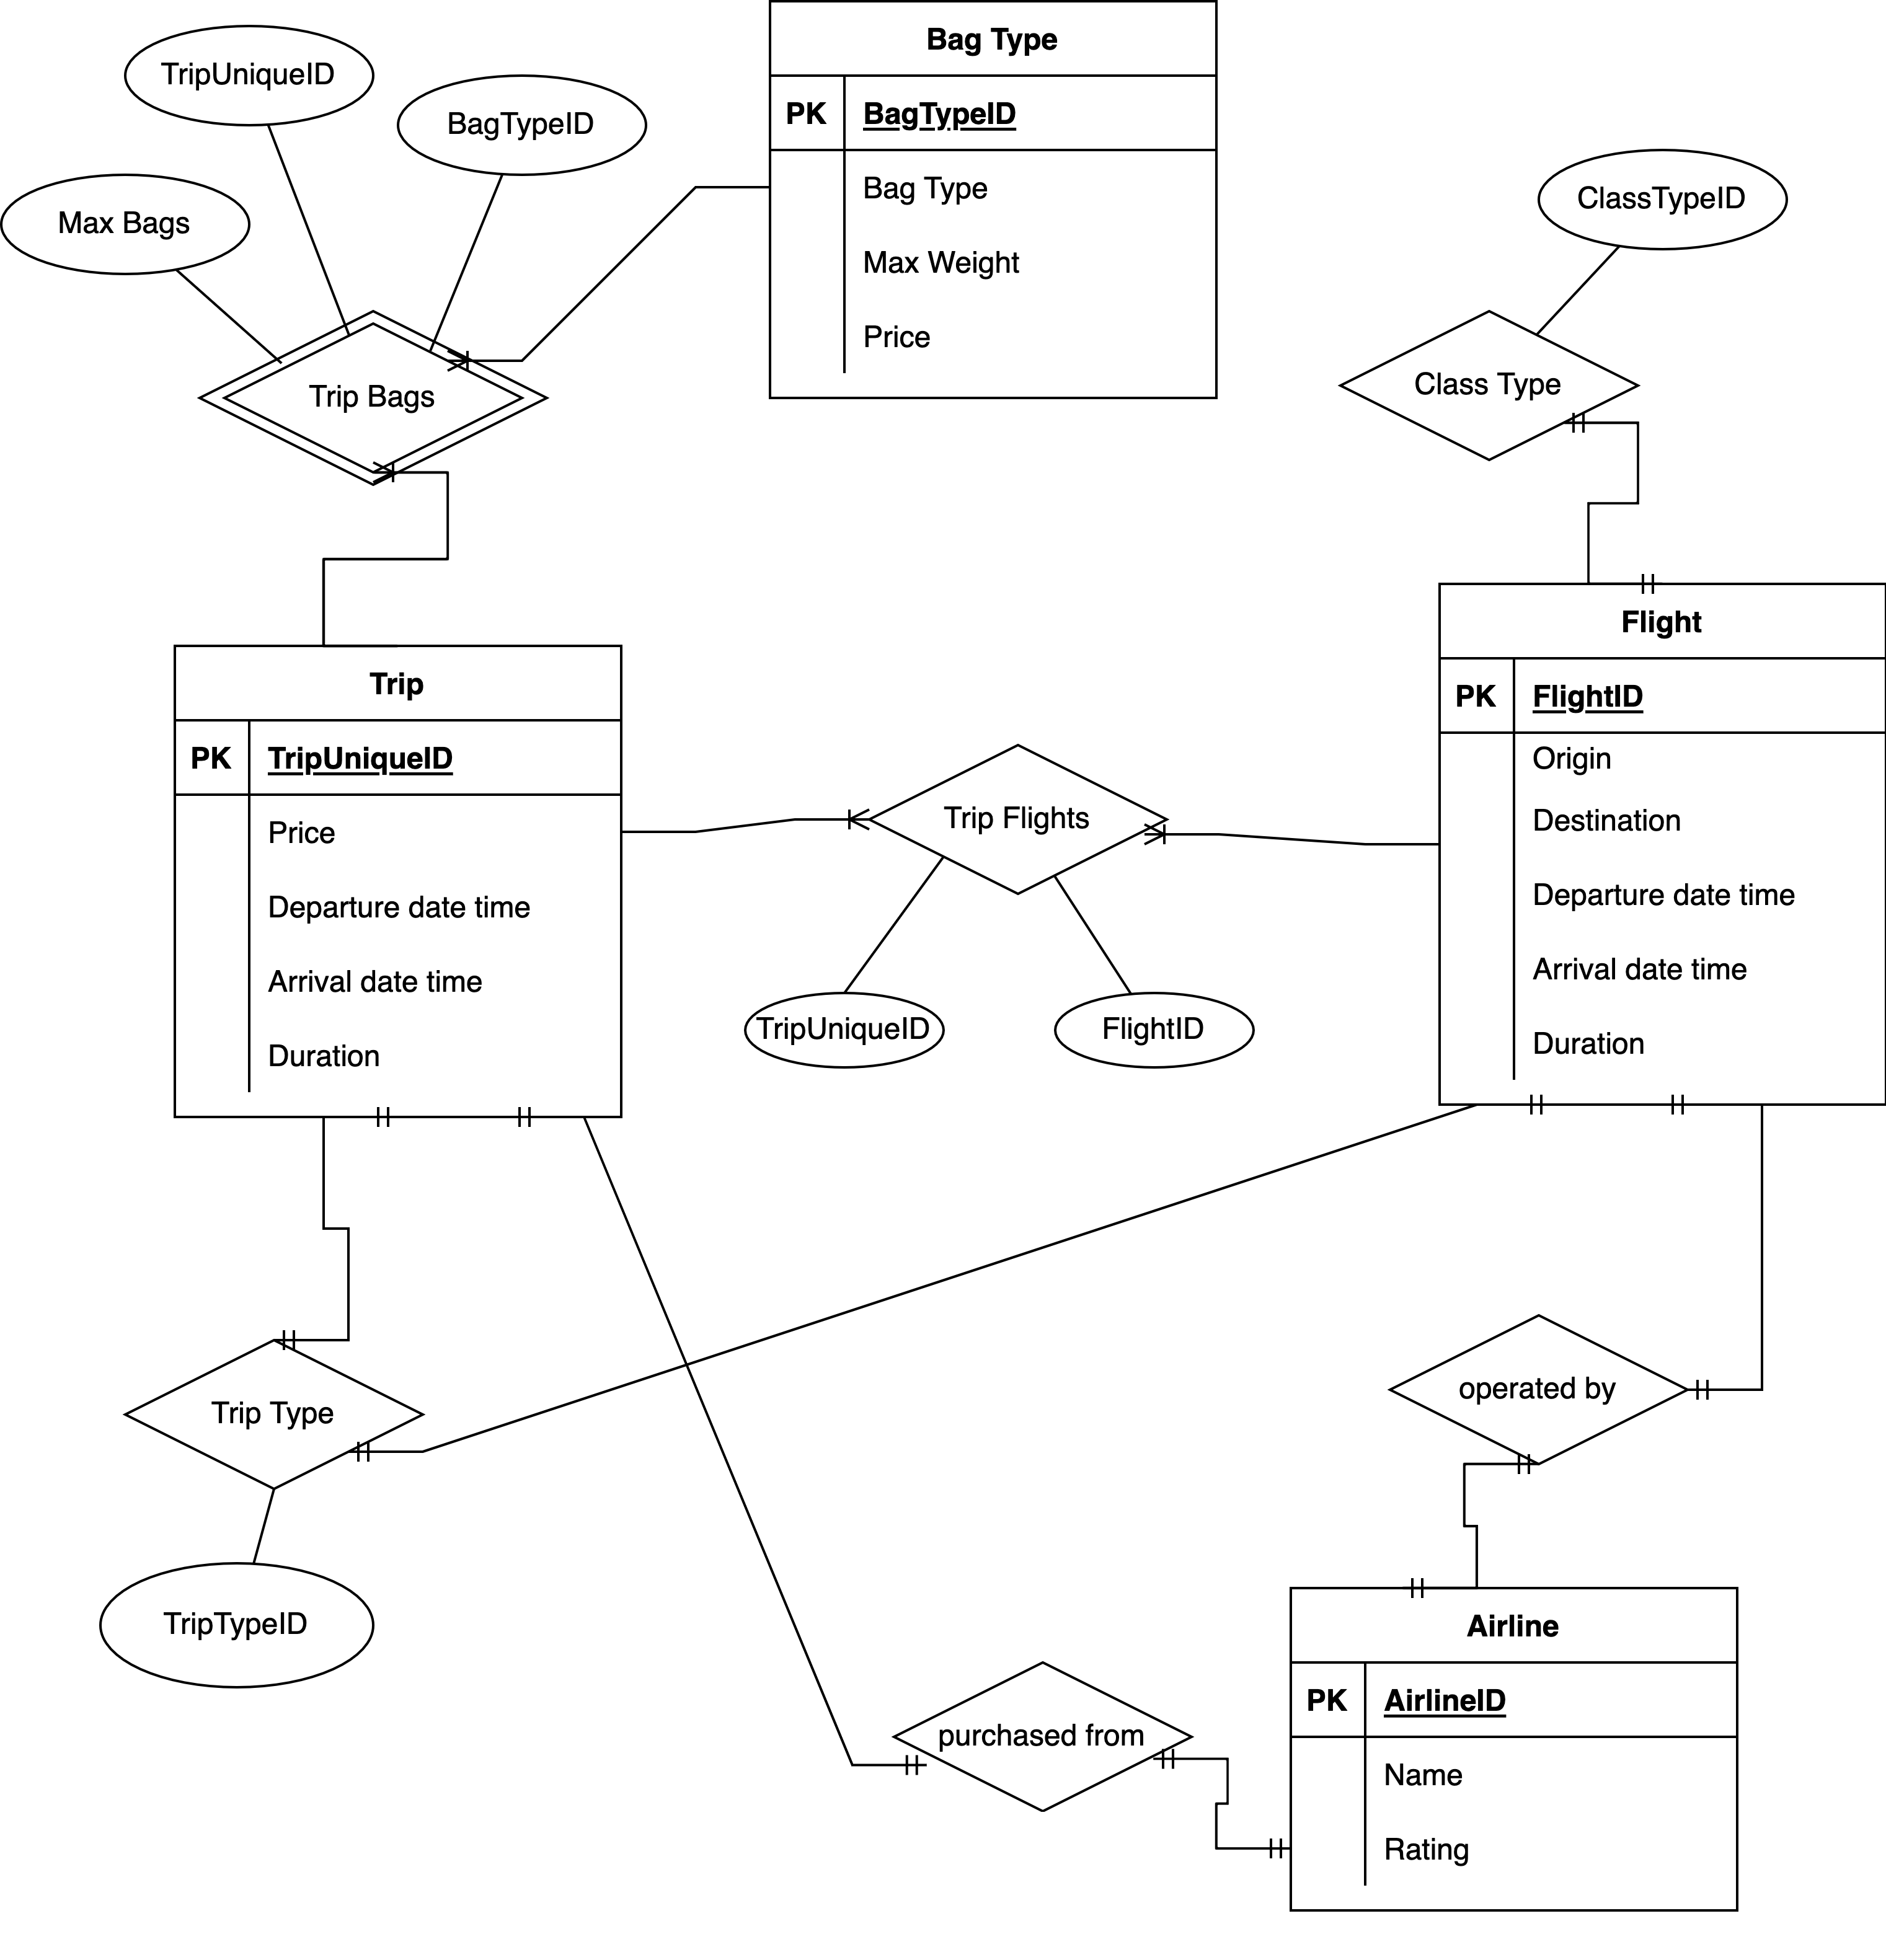entity: (1441, 584, 1886, 1102), (173, 646, 618, 1118), (767, 0, 1219, 399), (1292, 1584, 1741, 1906)
ident_rel: (200, 304, 557, 483)
many: (352, 446, 433, 499), (1135, 801, 1191, 859), (450, 333, 503, 387), (823, 801, 888, 838)
one: (1375, 1559, 1455, 1617), (872, 1725, 940, 1788), (1644, 1080, 1718, 1137), (1488, 1433, 1566, 1487), (1478, 1087, 1567, 1130), (501, 1088, 567, 1141), (341, 1424, 410, 1472), (1669, 1368, 1742, 1412), (252, 1319, 322, 1360), (1550, 395, 1597, 446), (345, 1099, 413, 1134), (1618, 556, 1671, 602), (1151, 1741, 1201, 1778), (1249, 1818, 1287, 1865)
rel: (834, 732, 1193, 899), (1387, 1309, 1695, 1472), (890, 1652, 1200, 1813), (119, 1339, 433, 1491), (1336, 310, 1641, 460)
rel_attr: (96, 1557, 378, 1689), (1532, 145, 1798, 255), (2, 170, 250, 278), (123, 19, 382, 122), (398, 77, 646, 177), (1052, 985, 1259, 1069), (741, 989, 949, 1067)
